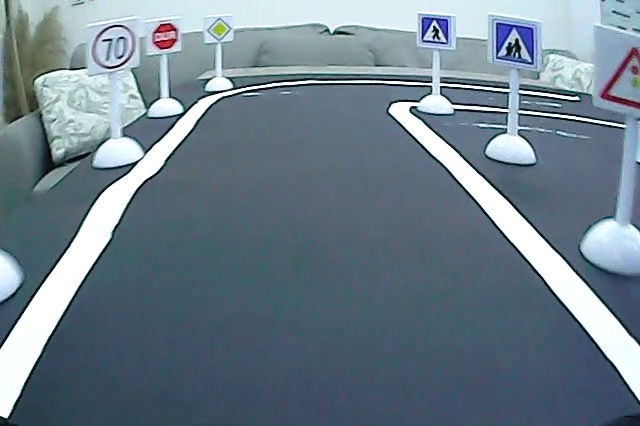pedestrian crossing: (419, 12, 453, 47)
red light: (598, 40, 640, 112)
school crossing: (492, 17, 538, 70)
speed limit 70: (89, 21, 137, 72)
stop sign: (151, 22, 181, 53)
